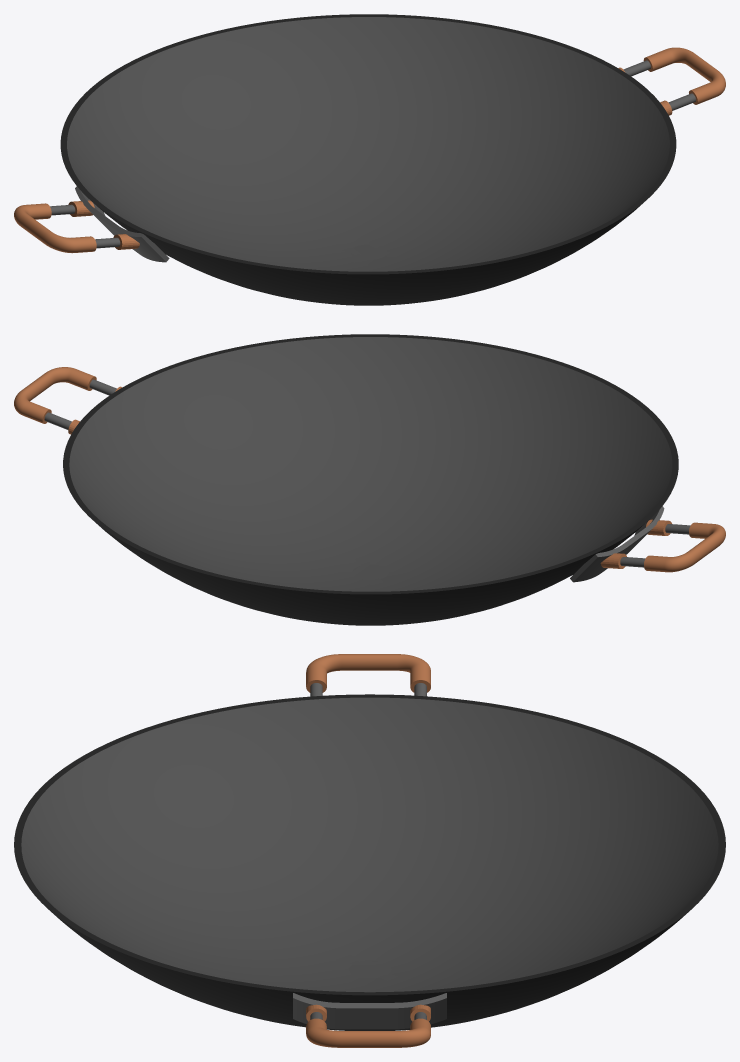
Rendered from wajan.fbx.
3 views of the same model, one above another, from view 1: azimuth 30°, elevation 25°; view 2: azimuth 150°, elevation 25°; view 3: azimuth 270°, elevation 25° (orthographic). The views are drawn at different scales.
Visible parts, largest first — view 1: Difference, Difference.001, group_2, group_2.003, Difference.002, group_3.001, group_3; view 2: Difference, Difference.001, group_2.003, group_2, Difference.002, group_3.001, group_3; view 3: Difference, Difference.001, Difference.003, group_2, group_2.003.
Part boxes in pixels (x1,y1,x2,y2): Difference: (67, 17, 669, 271); Difference.001: (60, 14, 676, 305); group_2: (14, 203, 96, 253); group_2.003: (643, 47, 725, 104); Difference.002: (75, 186, 169, 262); group_3.001: (623, 60, 695, 110); group_3: (50, 204, 120, 248); Difference: (69, 337, 672, 591); Difference.001: (63, 334, 678, 625); group_2.003: (14, 367, 96, 423); group_2: (644, 522, 725, 572); Difference.002: (570, 506, 664, 582); group_3.001: (44, 379, 116, 429); group_3: (620, 524, 690, 567); Difference: (21, 697, 718, 992); Difference.001: (14, 694, 725, 1030); Difference.003: (293, 993, 446, 1029); group_2: (306, 654, 430, 692); group_2.003: (306, 1018, 430, 1047).
Bounding box in the file's own units: 65.11 × 11.27 × 51.29.
